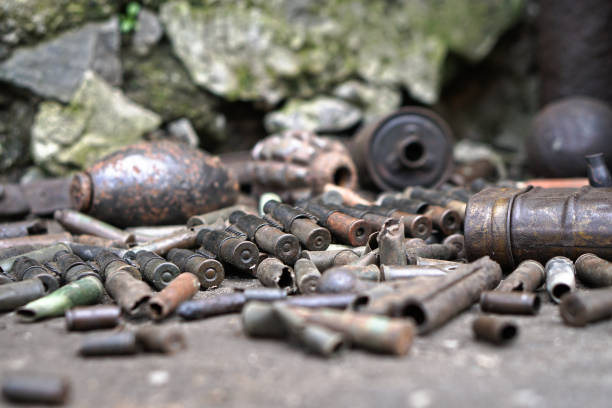e1: (69, 141, 232, 214), (243, 130, 359, 202)
